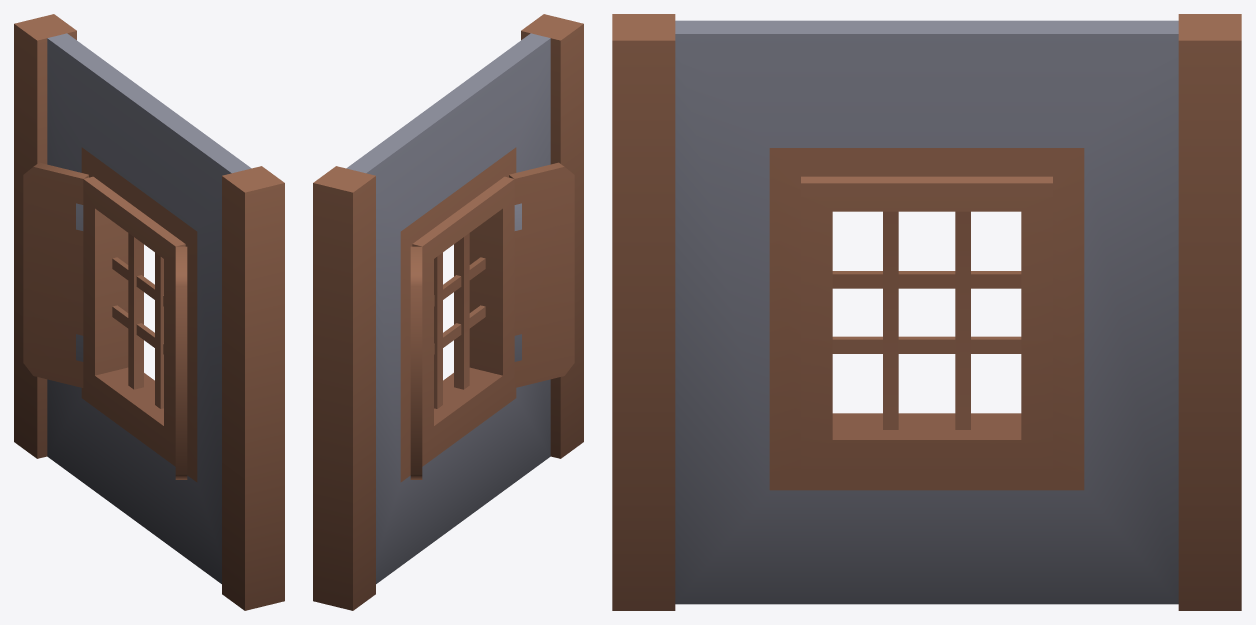
Rendered from wall-window-shutters.glb.
The picture shows the model from 3 angles, left to right: view 1: azimuth 30°, elevation 25°; view 2: azimuth 150°, elevation 25°; view 3: azimuth 270°, elevation 25°; orthographic projection. The views are drawn at different scales.
Parts seen in each view (by area): view 1: wall-window-shutters; view 2: wall-window-shutters; view 3: wall-window-shutters.
Boxes of the visible parts, <box> form: wall-window-shutters: <box>14,14,284,610</box>; wall-window-shutters: <box>313,14,583,610</box>; wall-window-shutters: <box>612,14,1241,610</box>.
Size of the model in its own units: 0.5248 by 3 by 3.
